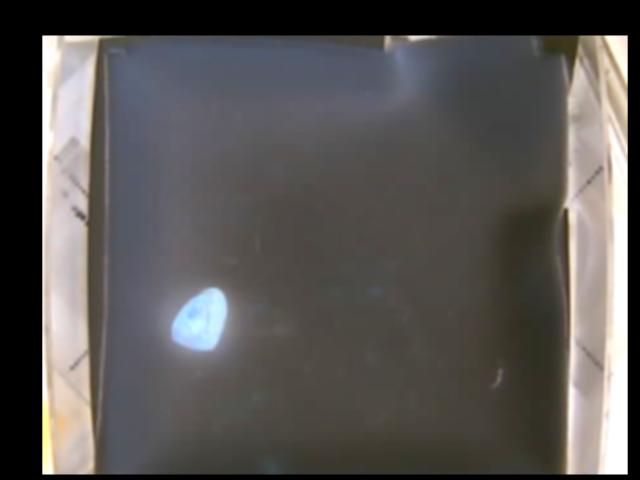Pebble: (171, 285, 226, 352)
